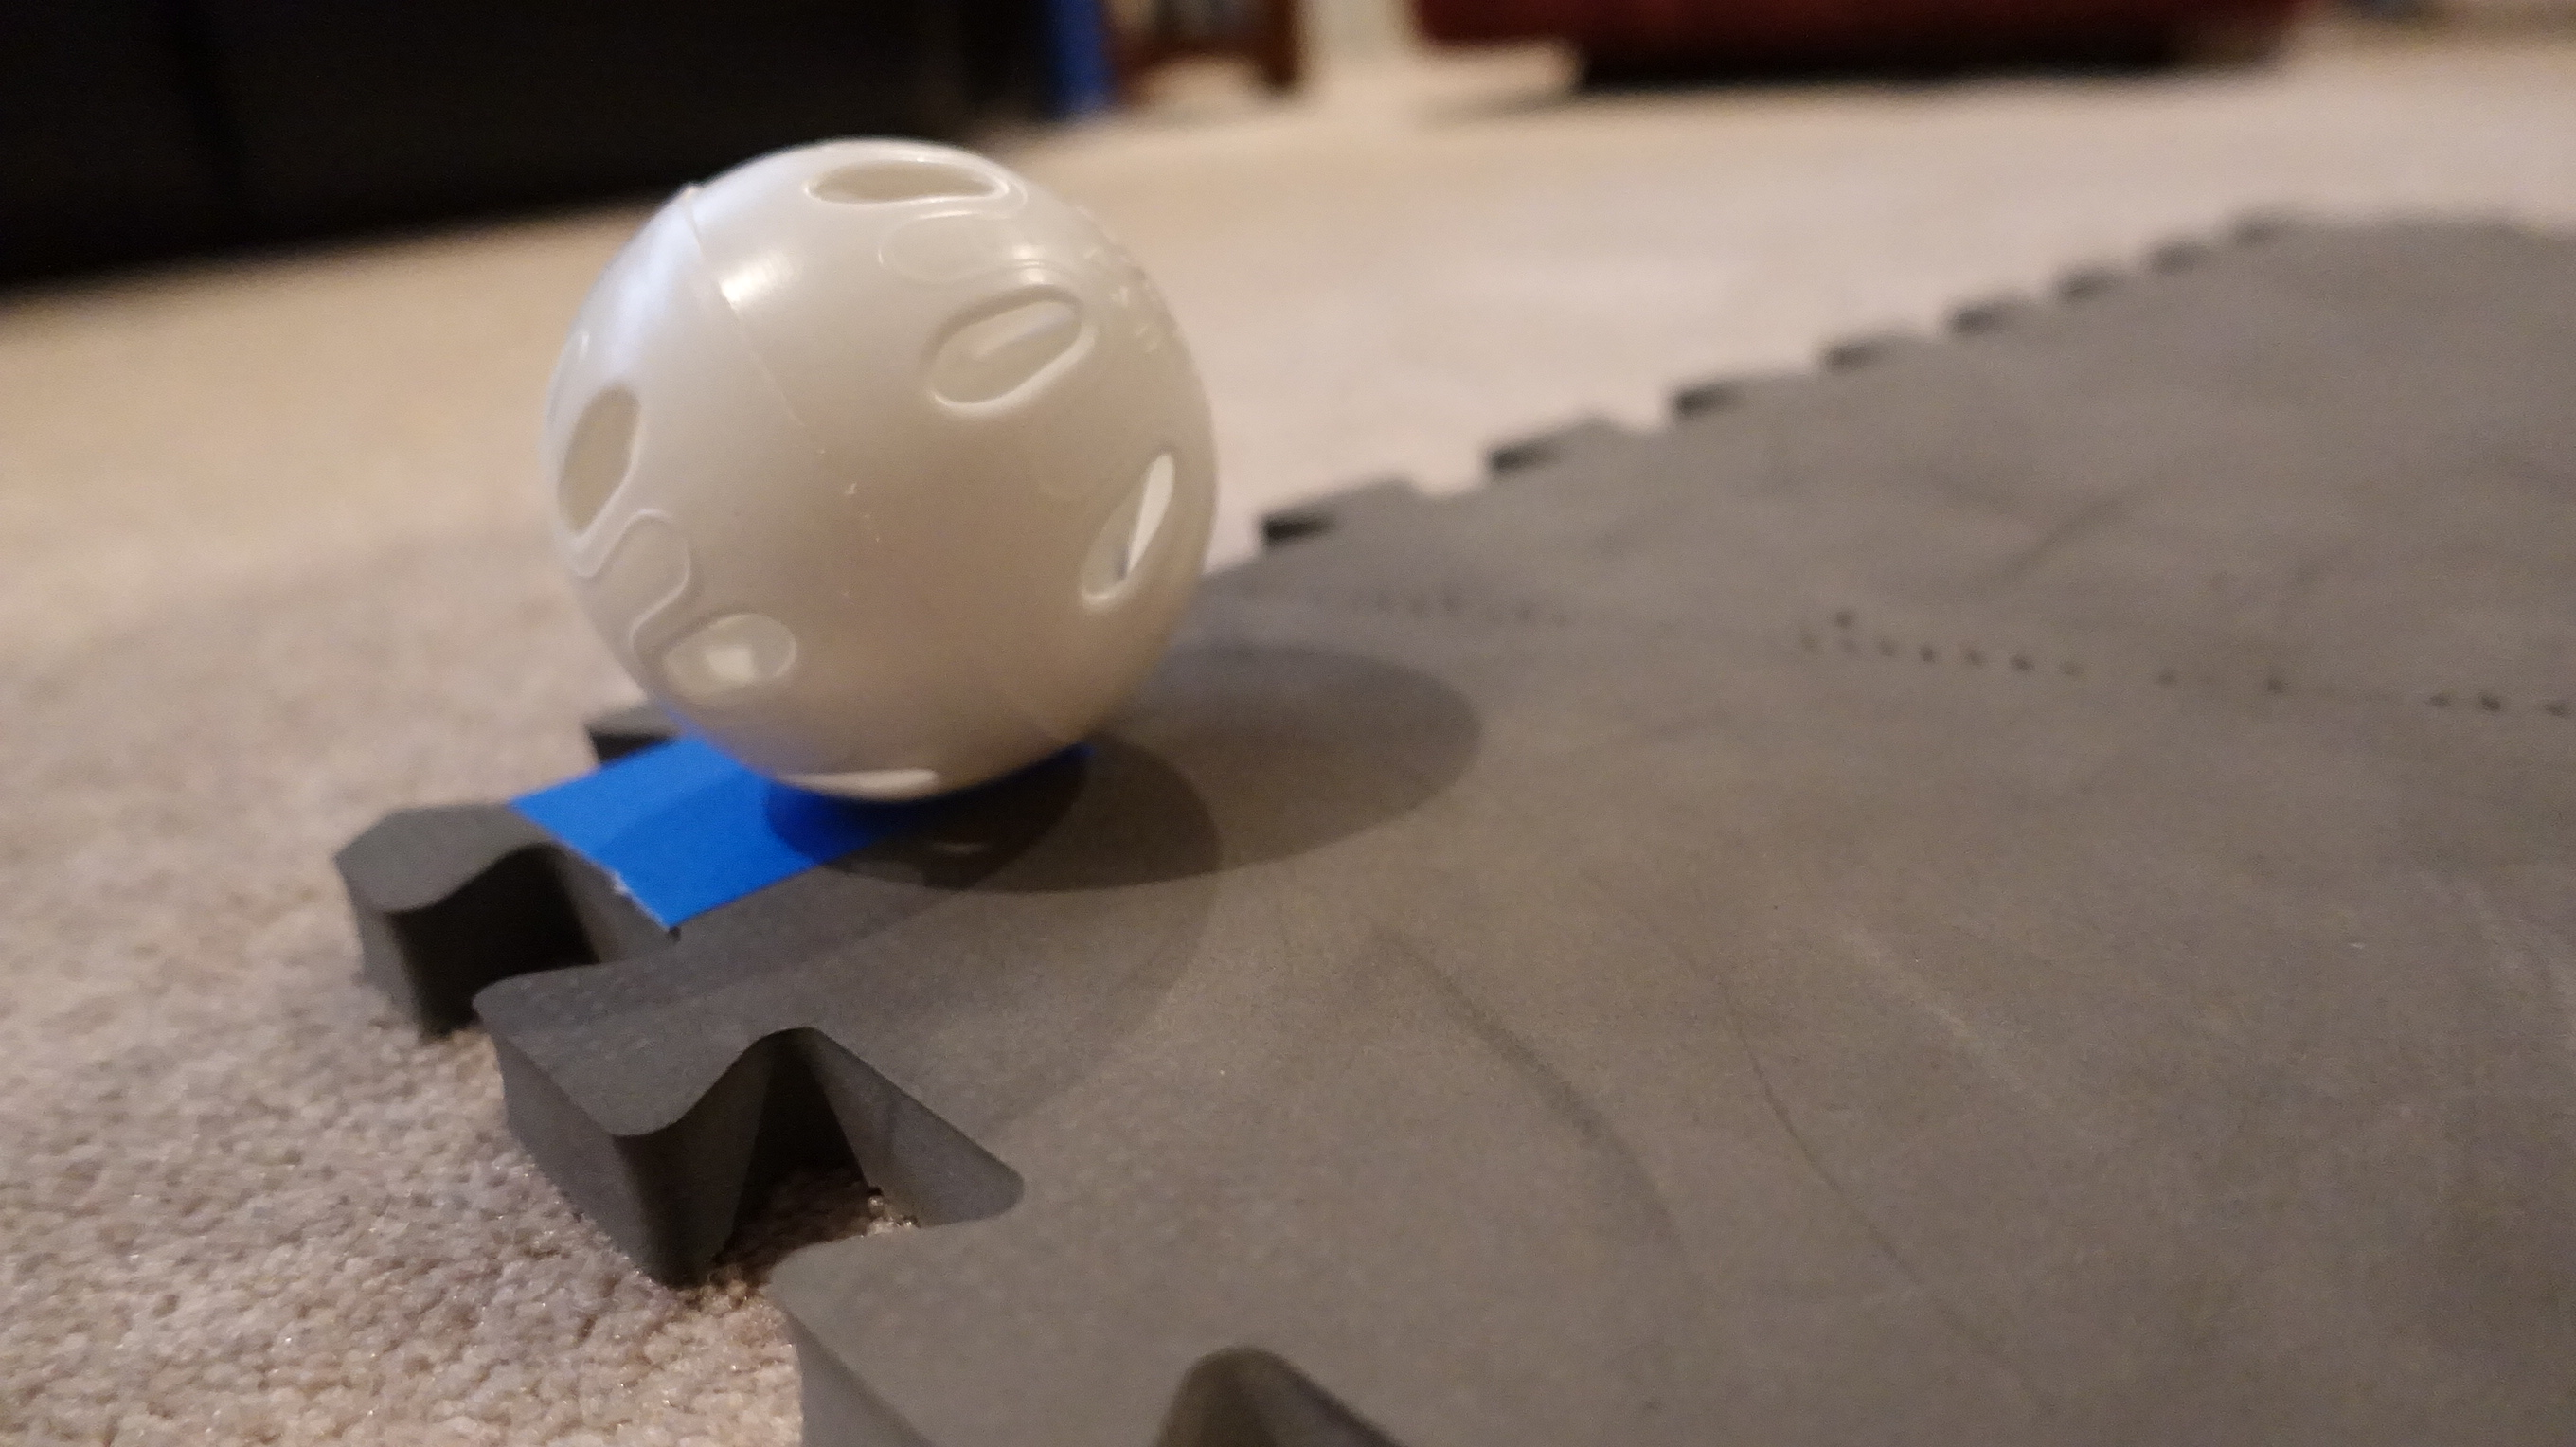silver: (515, 138, 1226, 803)
